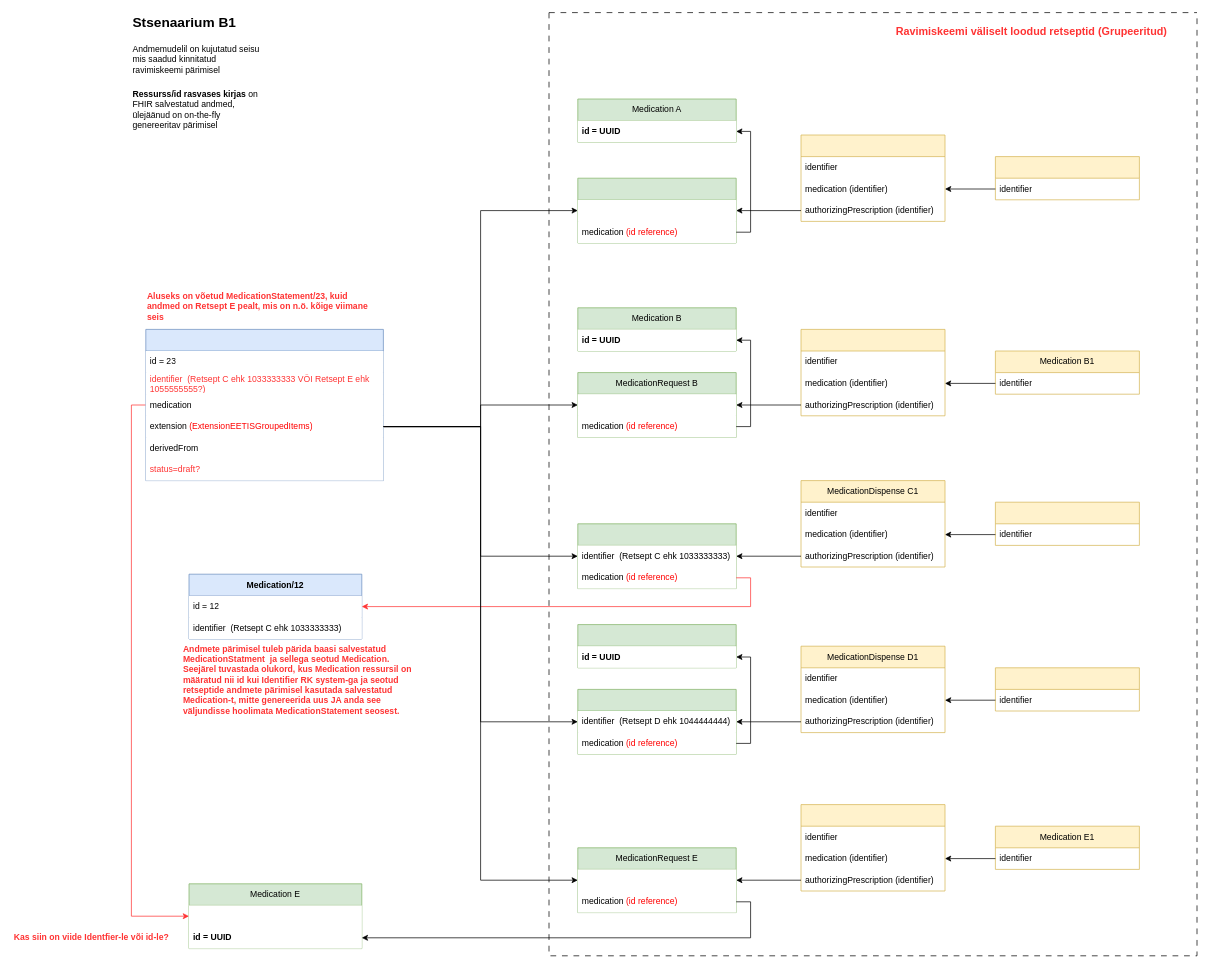
Some shapes in this 1210 by 968 pixel diagram are drawn without their labels. The shapes that lost their labels are listed below. From the top down, each one's box as (x1, y1, x2, y2) in pixels, then its label:
(800, 134, 945, 221): MedicationDispense A
(995, 156, 1139, 200): Medication A1
(577, 199, 736, 221): identifier (Retsept A ehk 1011111111 )
(577, 177, 736, 243): MedicationRequest A
(800, 329, 945, 416): MedicationDispense B
(145, 329, 383, 481): MedicationStatement/23 + Retsept E andmed
(577, 394, 736, 415): identifier (Retsept B ehk 1022222222 )
(995, 501, 1139, 545): Medication C1
(577, 523, 736, 589): MedicationRequest C
(577, 624, 736, 668): Medication D
(995, 667, 1139, 711): Medication D1
(577, 689, 736, 754): MedicationRequest D
(800, 804, 945, 891): MedicationDispense E1
(577, 869, 736, 891): identifier (Retsept E ehk 1055555555)
(189, 905, 361, 927): identifier (Retsept E ehk 10555555555)
